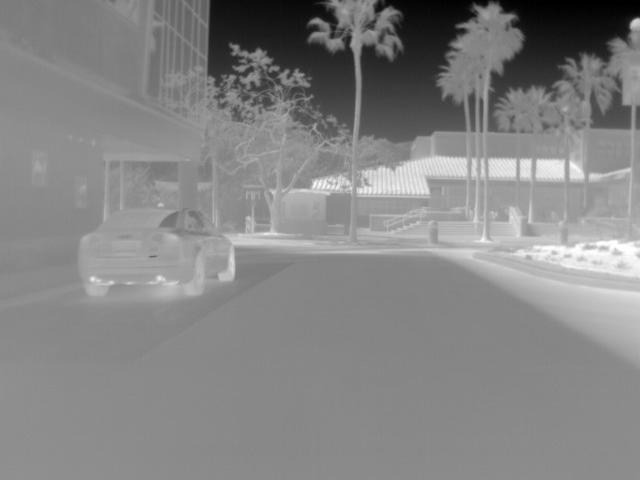car: (74, 204, 239, 299)
person: (241, 214, 256, 233)
